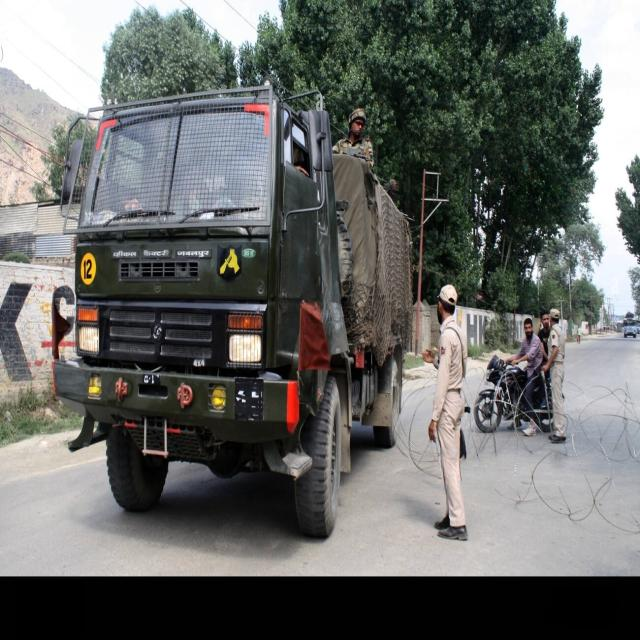motorcycle: (474, 317, 551, 436)
truck: (52, 86, 411, 536)
